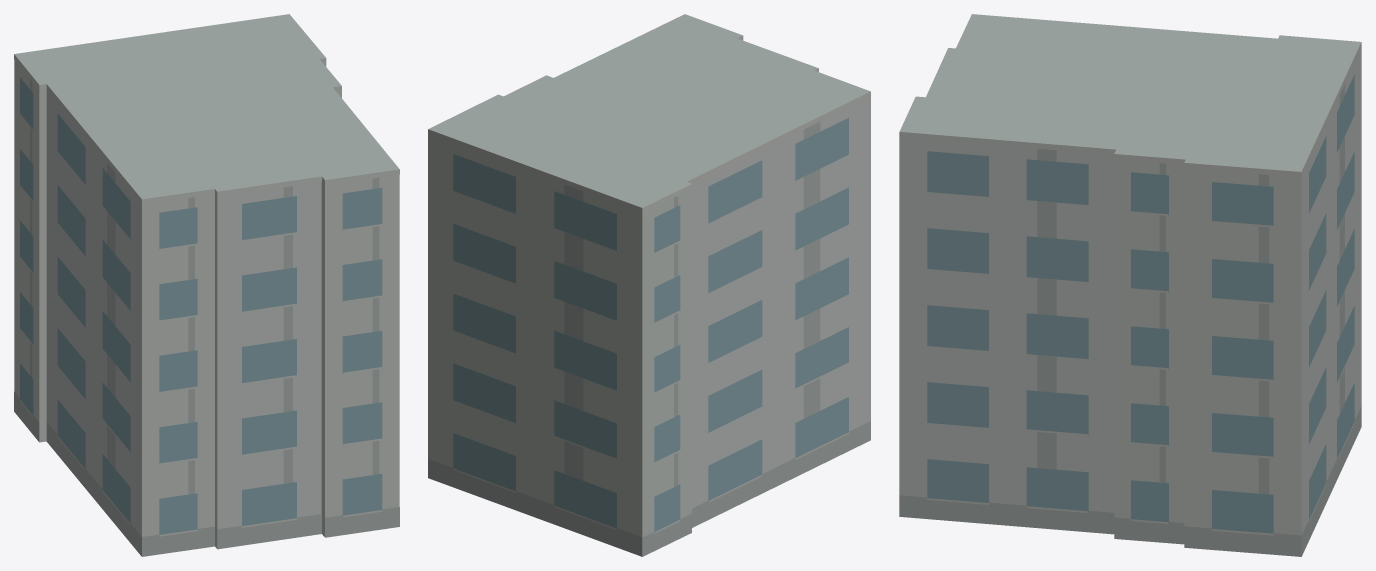
File: survey-upis-32796722.glb
3 renders of one model, left to right at view 1: azimuth 30°, elevation 25°; view 2: azimuth 150°, elevation 25°; view 3: azimuth 270°, elevation 25°, orthographic. The views are drawn at different scales.
Parts seen in each view (by area): view 1: survey-upis-32796722.tmp; view 2: survey-upis-32796722.tmp; view 3: survey-upis-32796722.tmp.
Part boxes in pixels (<box>): survey-upis-32796722.tmp: <box>14,14,399,556</box>; survey-upis-32796722.tmp: <box>428,14,870,556</box>; survey-upis-32796722.tmp: <box>899,14,1361,556</box>.
Size of the model in its own units: 14.44 by 16.4 by 17.85.
